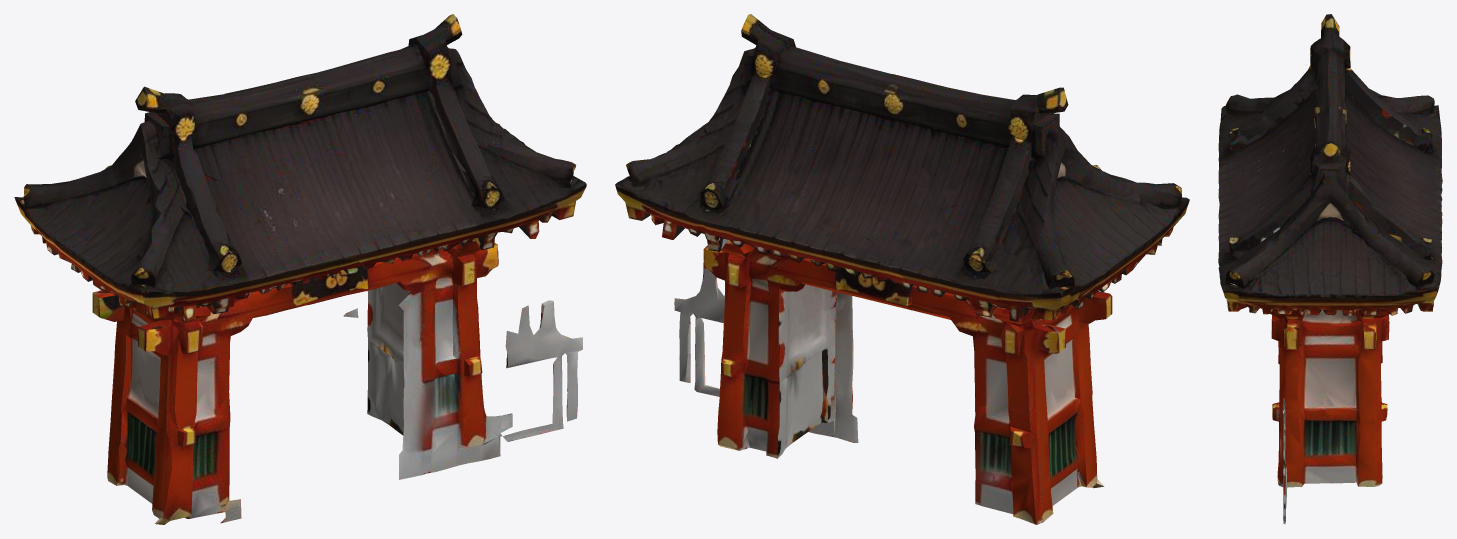
Rendered from osaka-tenmangu.glb.
3 views of the same model, side by side, from view 1: azimuth 30°, elevation 25°; view 2: azimuth 150°, elevation 25°; view 3: azimuth 270°, elevation 25° (orthographic). The views are drawn at different scales.
Visible parts, largest first — view 1: logan-textured.obj; view 2: logan-textured.obj; view 3: logan-textured.obj.
Boxes of the visible parts, <box> form: logan-textured.obj: <box>14,14,586,524</box>; logan-textured.obj: <box>615,14,1189,524</box>; logan-textured.obj: <box>1218,14,1442,523</box>.
Size of the model in its own units: 1 by 0.855 by 0.482.
1 material, 1 textured.
